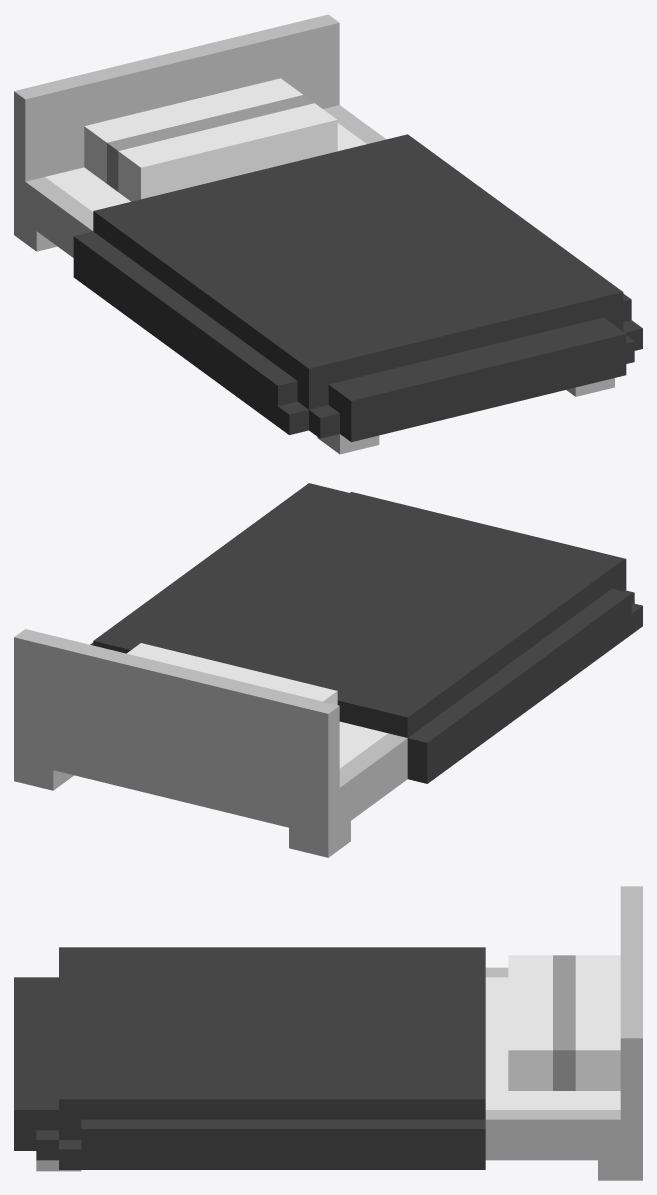
The model's file is Lit(2).obj.
3 renders of one model, top to bottom at view 1: azimuth 30°, elevation 25°; view 2: azimuth 150°, elevation 25°; view 3: azimuth 270°, elevation 25°, orthographic.
Bounding box in the file's own units: 1.8 × 0.7 × 2.8.
Materials: 1 (1 with a texture image).
